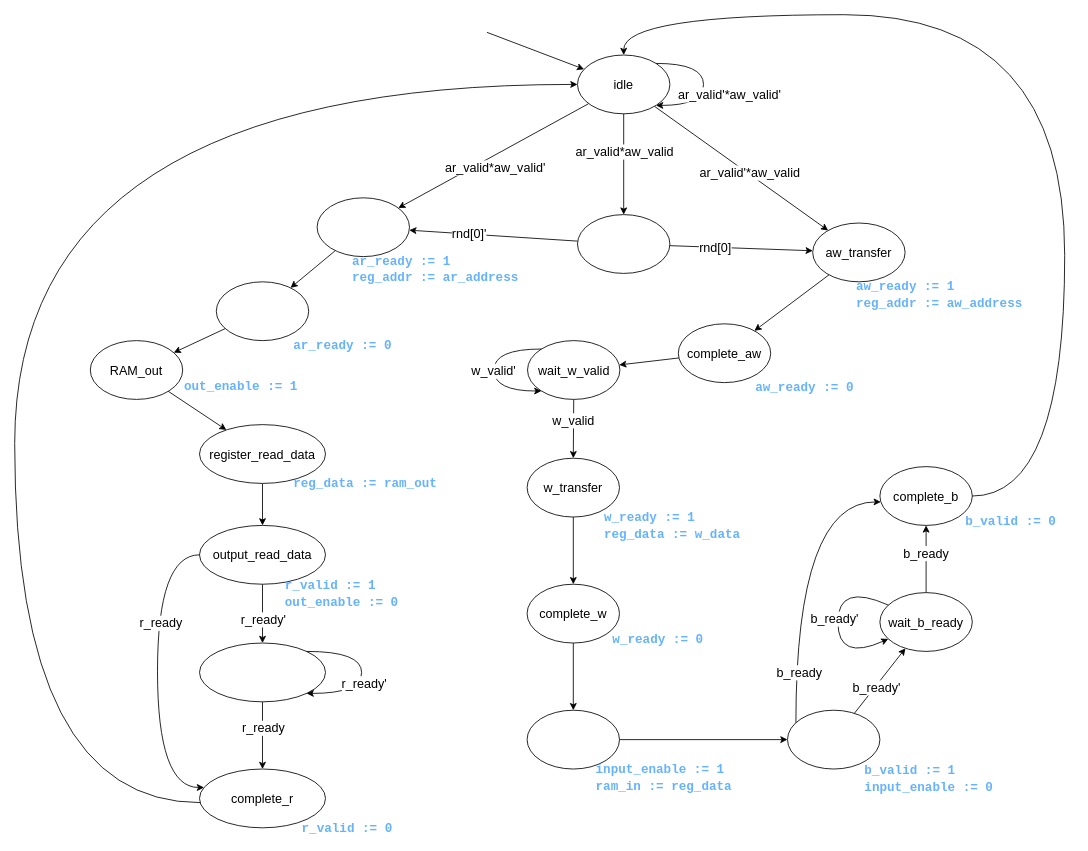
This 1088x851 diagram has some shape labels left out. Each missing label, with the centre of its shape:
ar_transfer: point 363,227
complete_ar: point 262,311
decide_random: point 623,243
respond_b: point 833,739
store_reg_data: point 573,739
wait_r_ready: point 262,672
